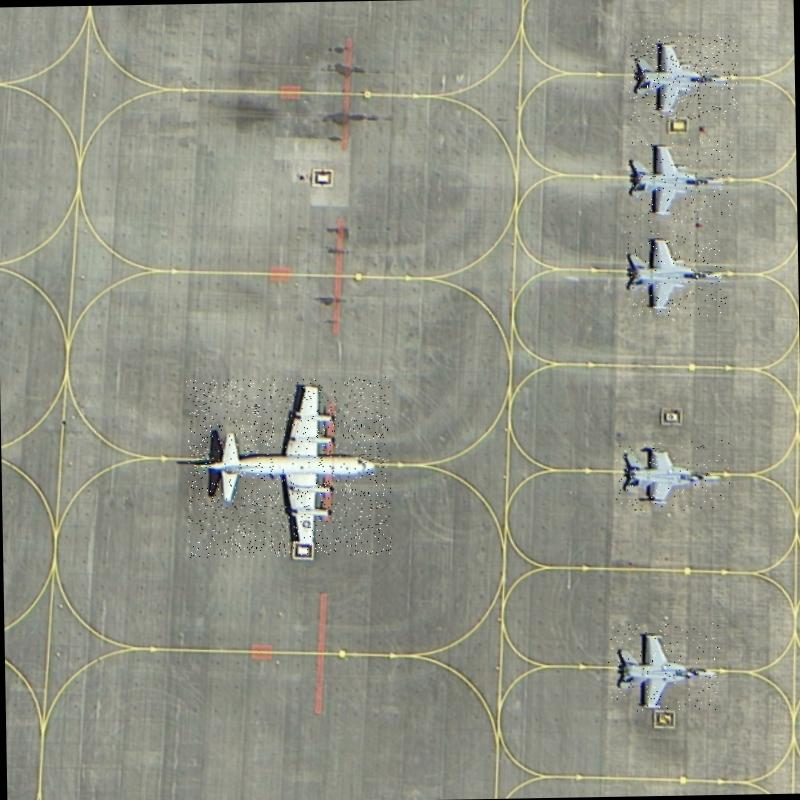A16: (606, 622, 722, 712), (628, 34, 738, 122), (624, 137, 732, 223), (624, 229, 726, 317), (613, 439, 730, 514)
A9: (185, 376, 392, 558)
